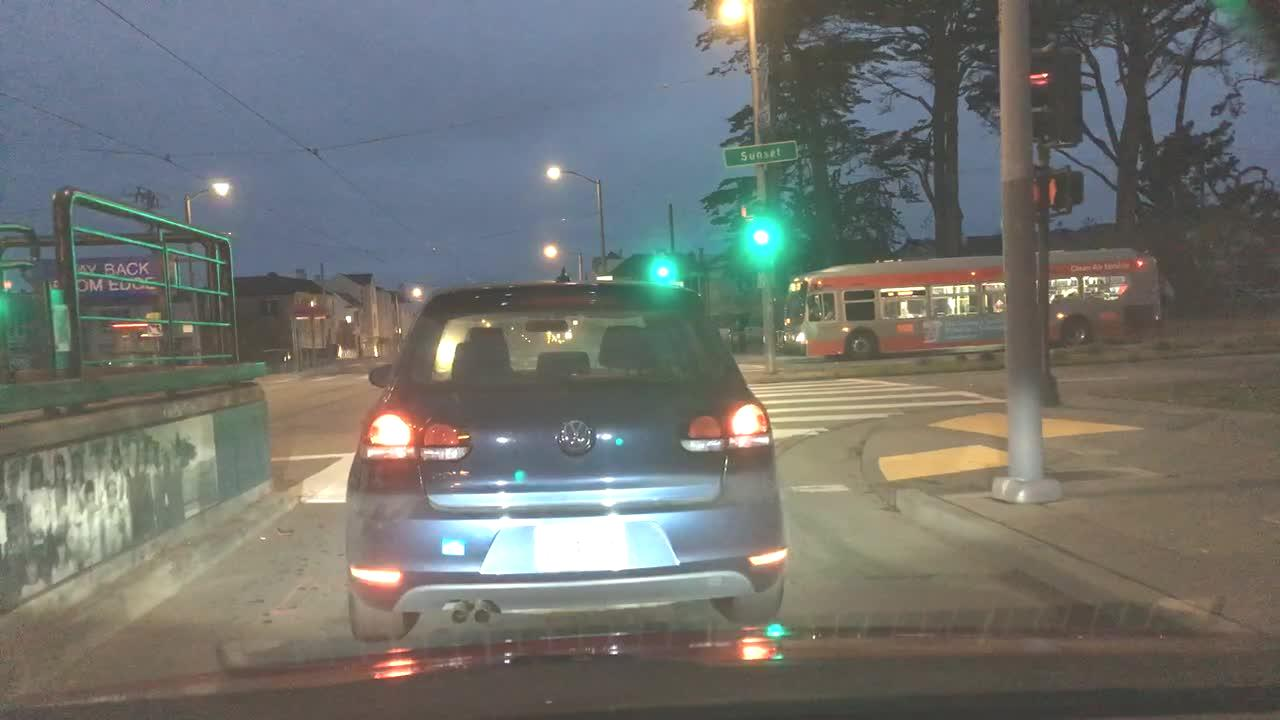Volkswagen: (539, 406, 613, 456)
